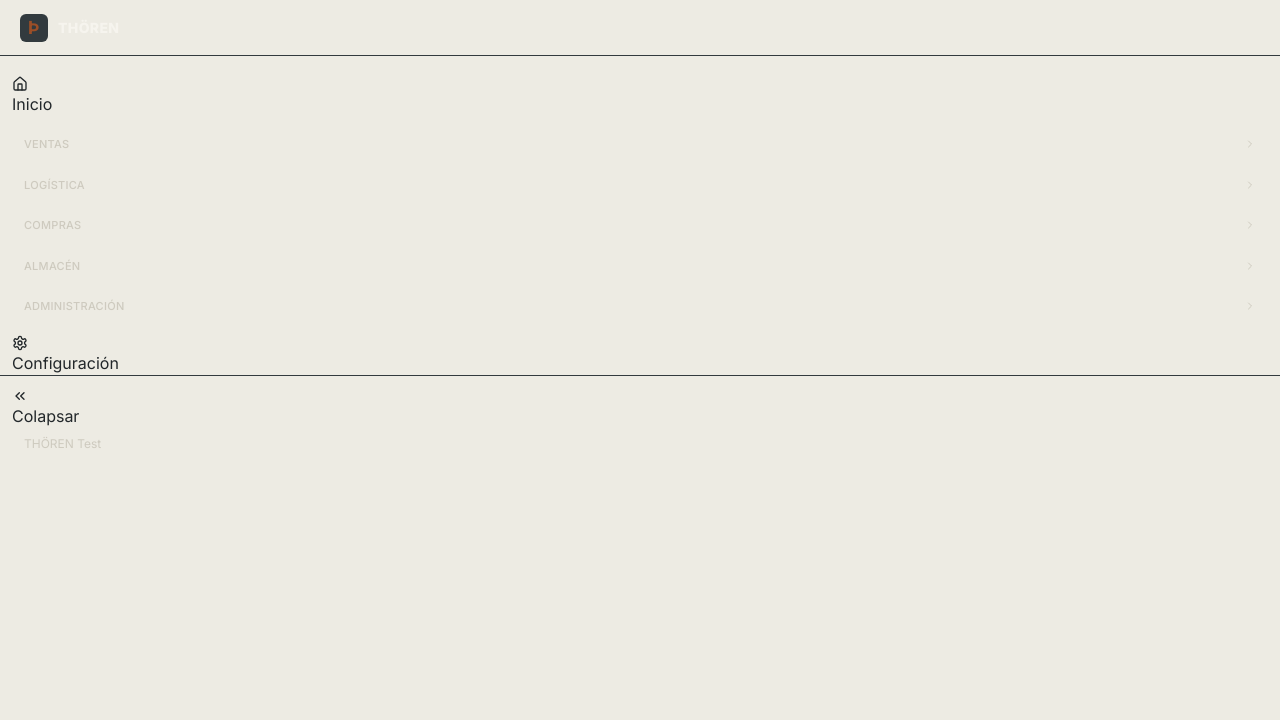
Test: Sidebar — control de acceso por departamentos (filtro ADITIVO sobre el de siempre) › admin conserva acceso completo sin importar los departamentos asignados
What coordinates should you click on to do the following:
click the button "Compras"
I would click on:
 (53, 225)
Its box is [12,213,1268,238].
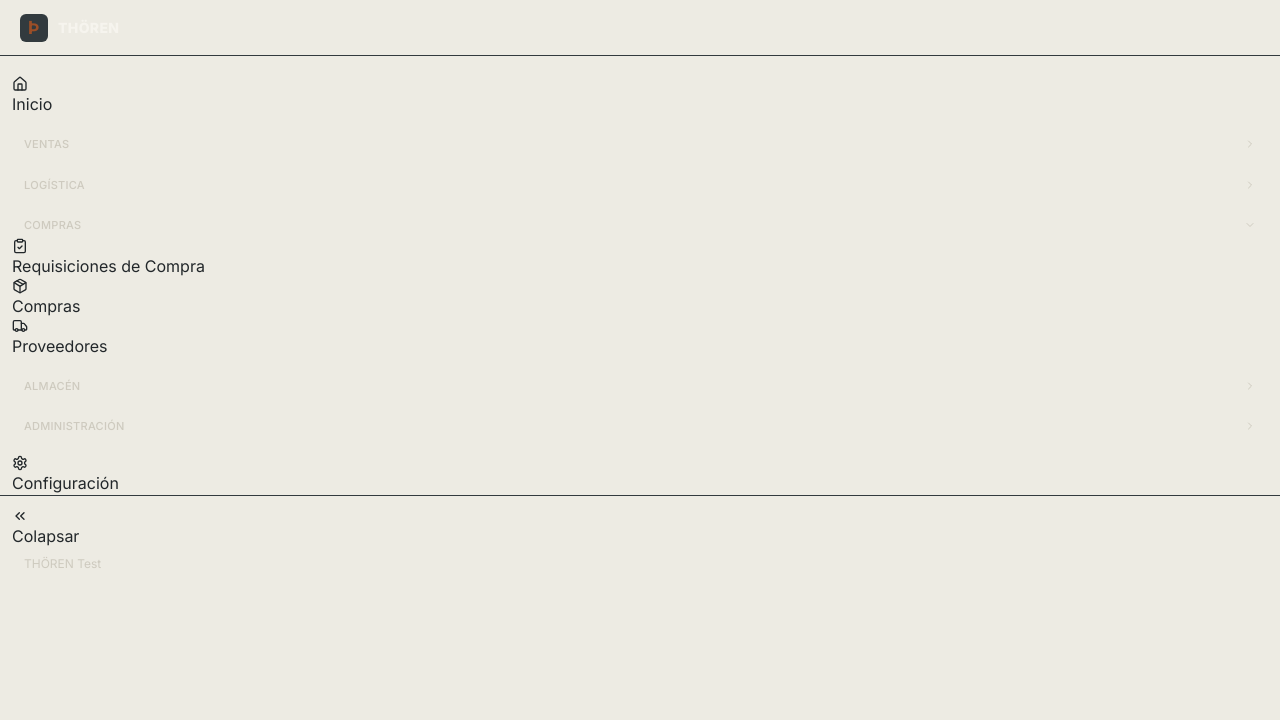
Check: the link "Proveedores" is shown, box [12,318,108,356]
